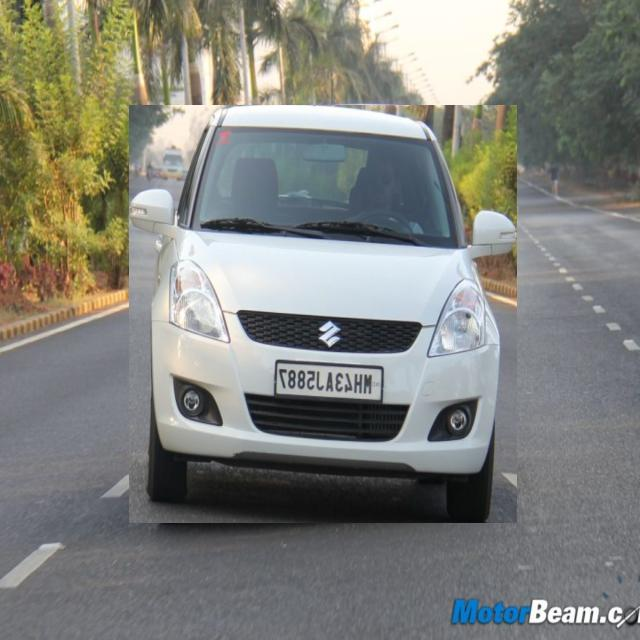car: (130, 105, 517, 523)
